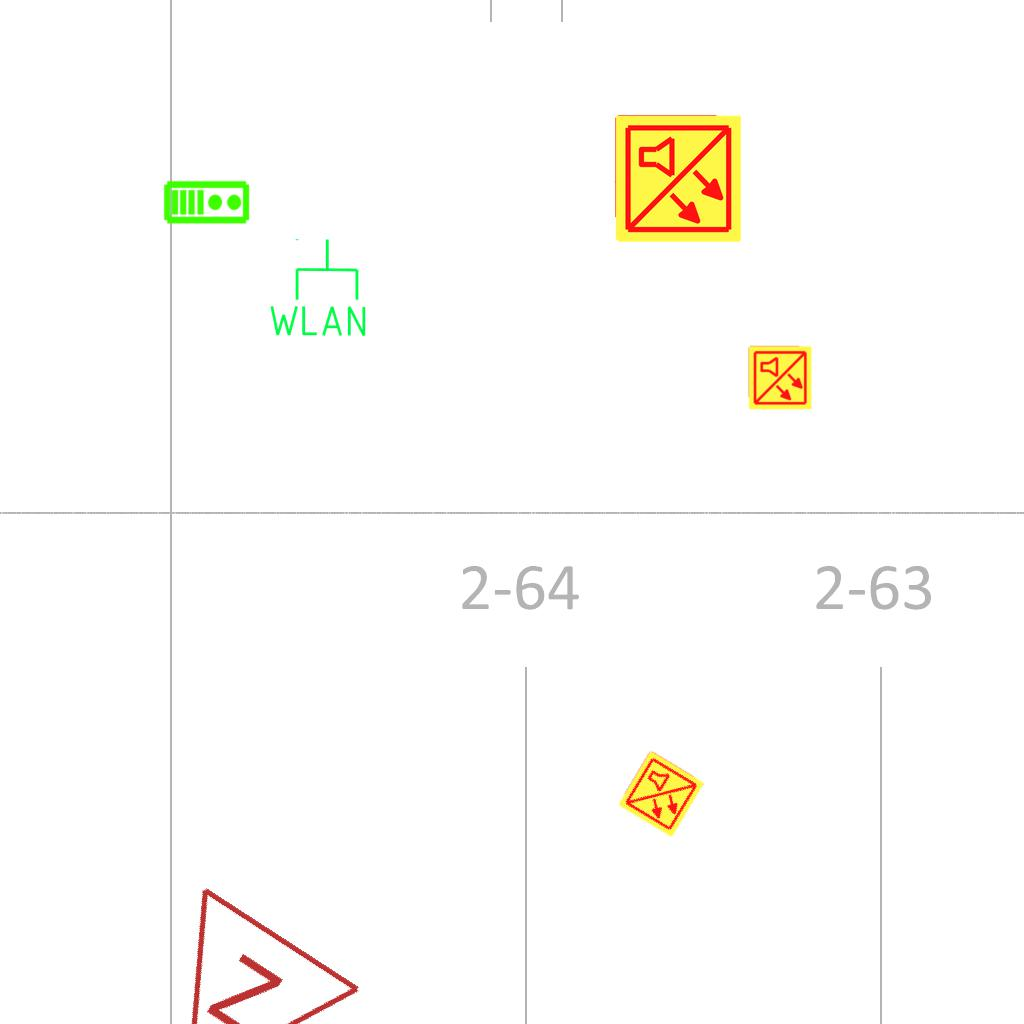Gegensprechanlage_mit_Video: (163, 178, 251, 225)
OKW_Multisensormelder_(Kombination_optischer_Rauch-Kahlenmonoxid_Waerme-Melder): (612, 113, 744, 245), (615, 748, 707, 840), (747, 345, 813, 411)
WLAN: (608, 113, 756, 262), (265, 236, 370, 340)
Zimmersignalleuchte: (101, 872, 375, 1024)
